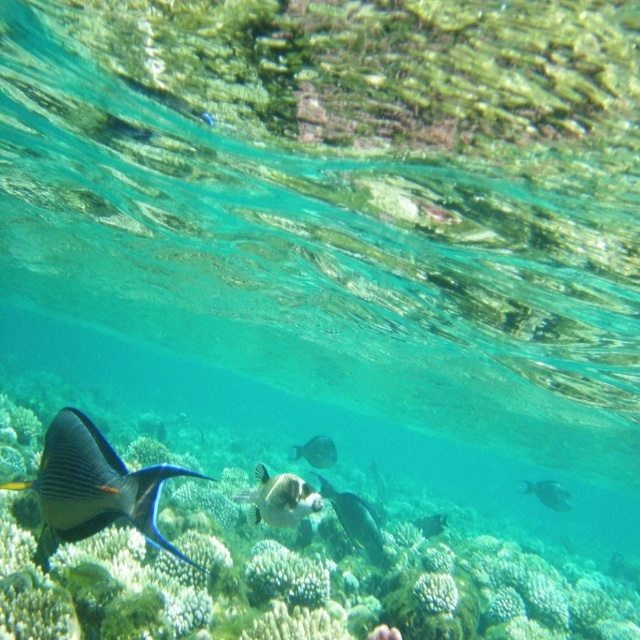Fish: (29, 406, 229, 595), (312, 462, 387, 556), (246, 453, 323, 533), (521, 480, 575, 516), (288, 429, 338, 467), (414, 513, 450, 539)
